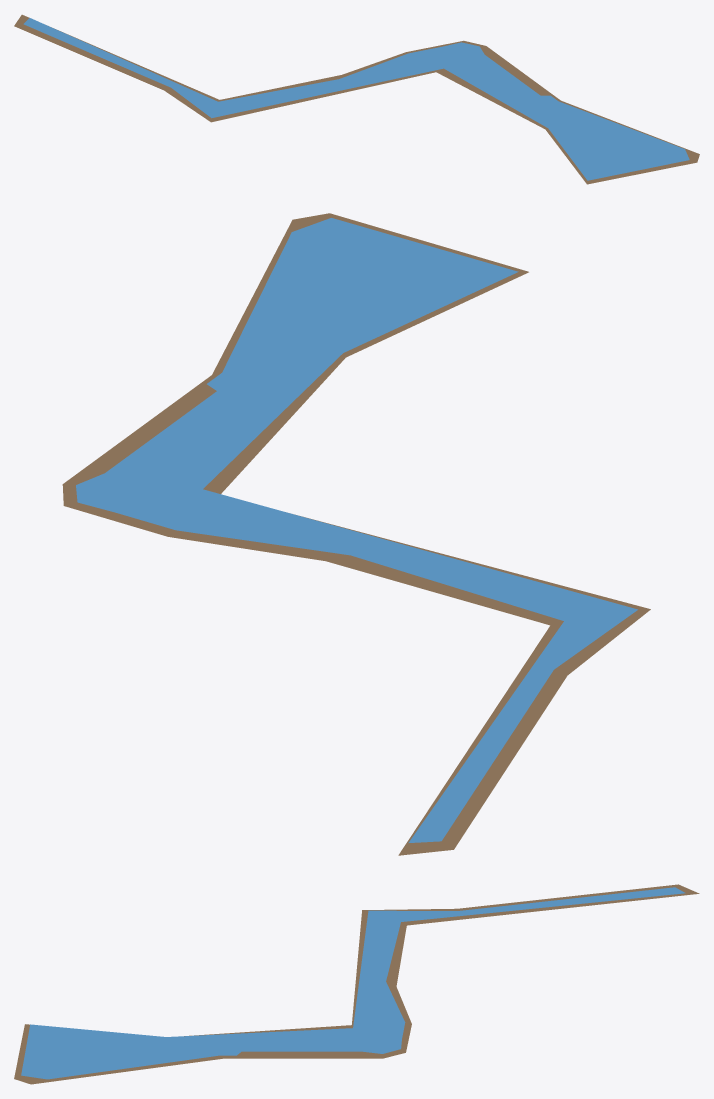
Rendered from river.gltf.
3 views of the same model, one above another, from view 1: azimuth 30°, elevation 25°; view 2: azimuth 150°, elevation 25°; view 3: azimuth 270°, elevation 25° (orthographic). The views are drawn at different scales.
Visible parts, largest first — view 1: Shape, Shape 2; view 2: Shape, Shape 2; view 3: Shape, Shape 2.
Boxes of the visible parts, x1,y1,x2,y2 form: Shape: (23,18,689,180); Shape 2: (14,14,699,184); Shape: (76,218,637,842); Shape 2: (62,213,650,855); Shape: (21,887,685,1079); Shape 2: (14,884,699,1084).
Size of the model in its own units: 26.86 by 0.0784 by 38.91.
